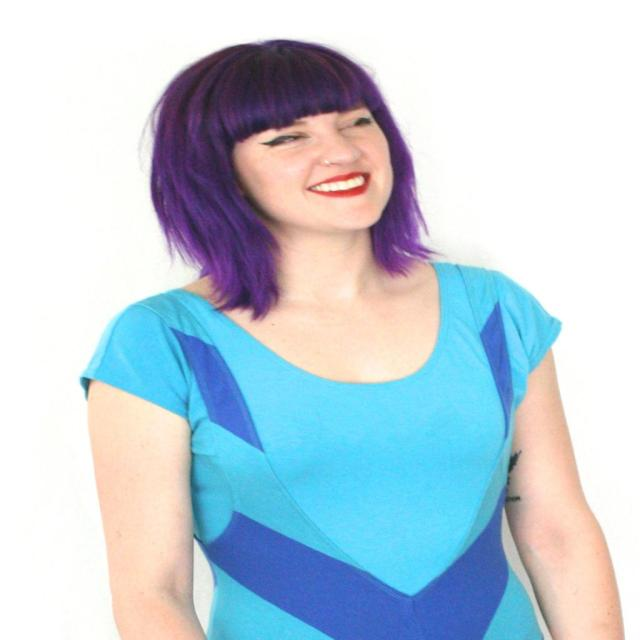Face: (198, 95, 426, 256)
